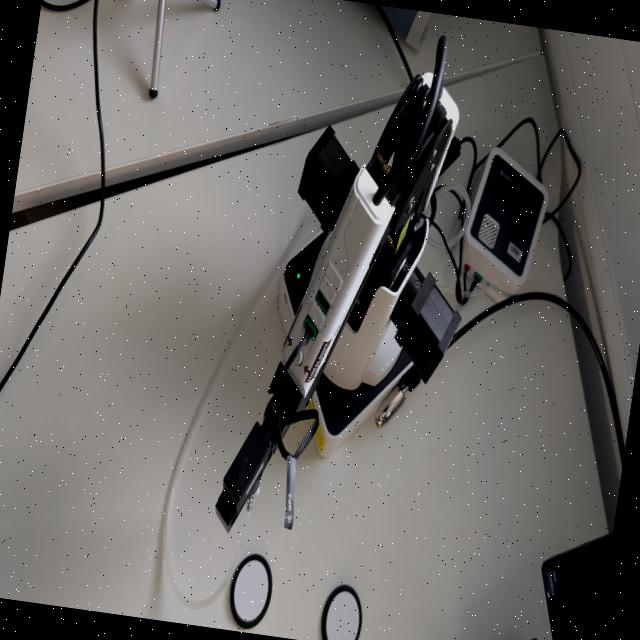Robot-end-effector-HF8z: (208, 412, 280, 542)
